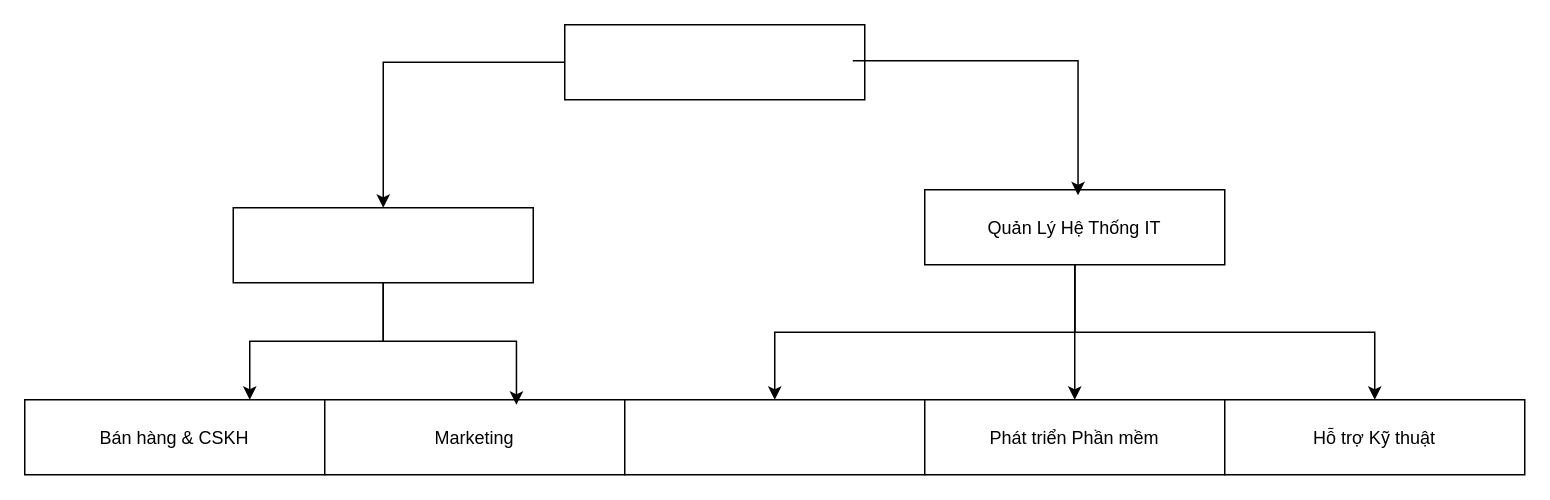
Some shapes in this 1550 by 500 pixel diagram are drawn without their labels. Each missing label, with the box of its shape:
Giám Đốc Nhà Sách: (563, 23, 865, 100)
Quản lý Kho: (623, 398, 925, 475)
Quản Lý Kinh Doanh: (232, 206, 533, 283)
